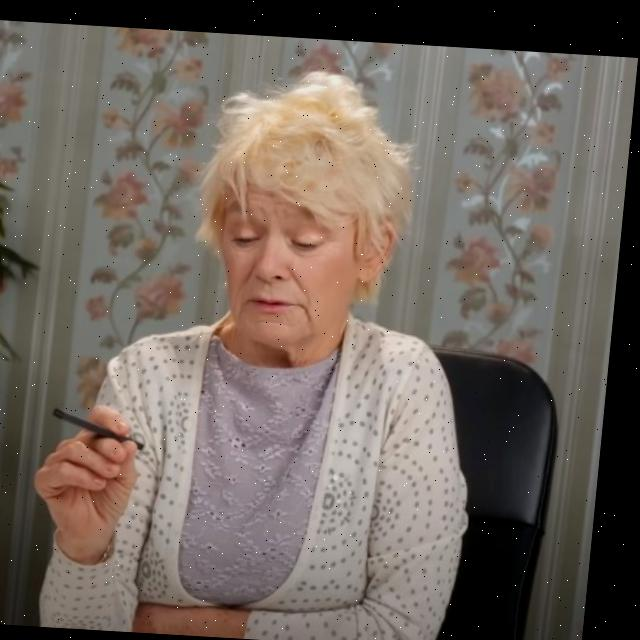vape: (57, 406, 156, 449)
